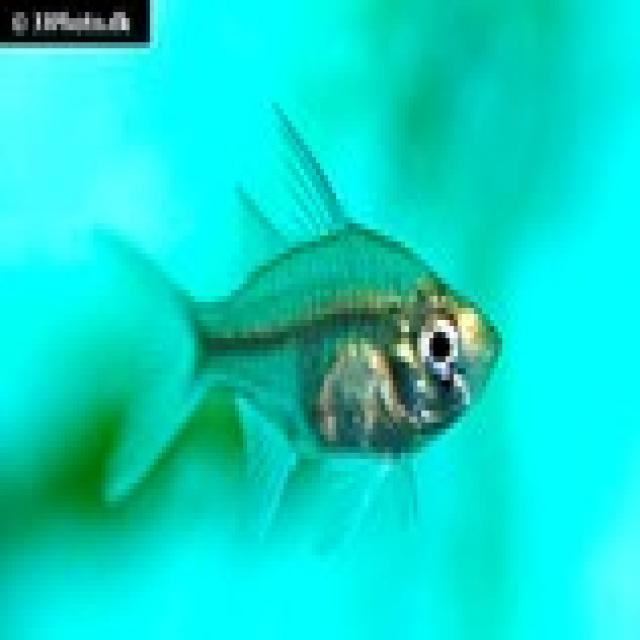Glass-Perchlet: (87, 110, 551, 597)
